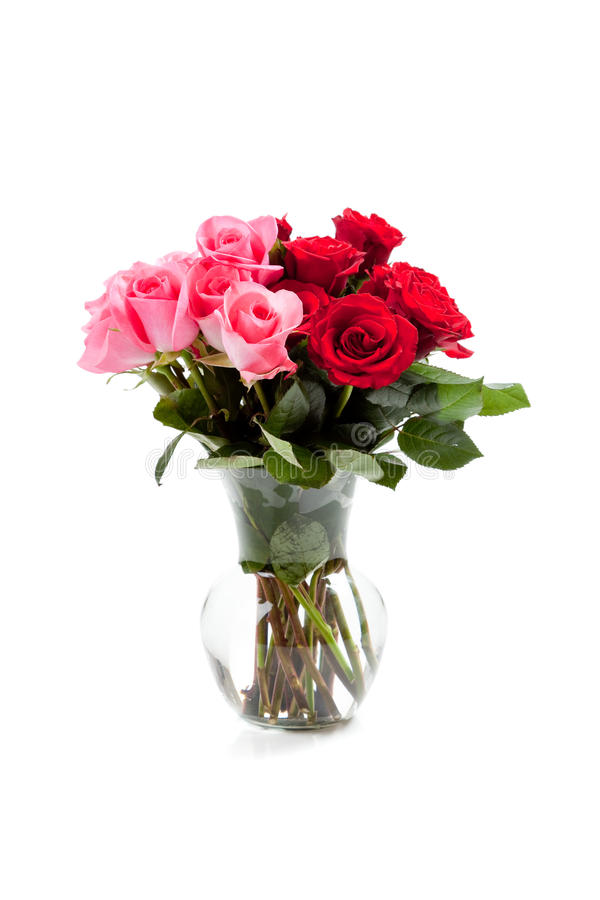RedRose: (305, 287, 427, 417), (376, 256, 489, 373), (283, 206, 373, 285)
